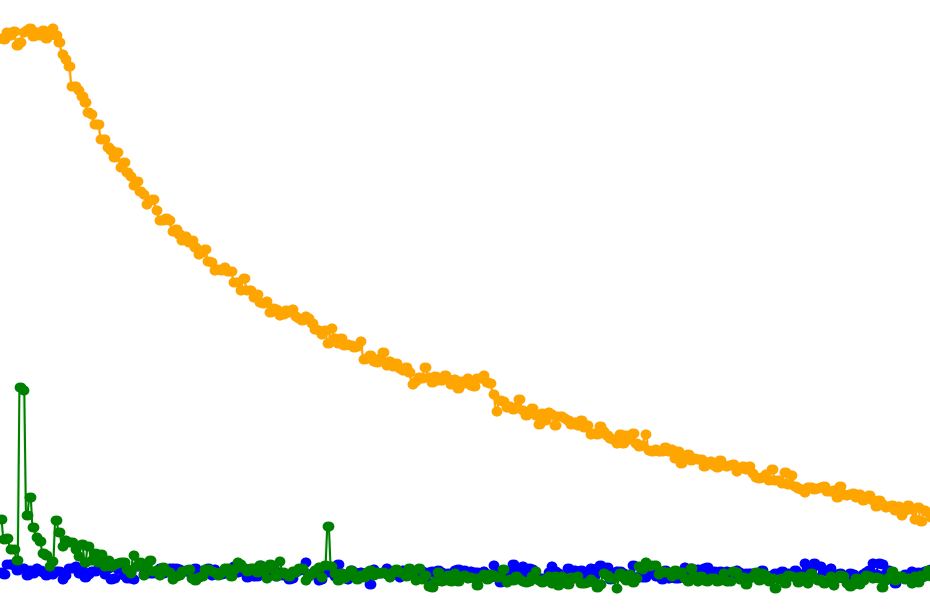CO2 Problem: (116, 0, 930, 616), (38, 0, 116, 616), (0, 0, 38, 616)
Condensation (CO2): (116, 0, 349, 616), (38, 0, 116, 616)
Low CO2: (116, 0, 349, 616), (38, 0, 116, 616)
Normal: (38, 0, 930, 616), (116, 0, 930, 616), (38, 0, 505, 616), (38, 0, 349, 616), (38, 0, 116, 616), (0, 0, 38, 616)
O2 Problem: (116, 0, 930, 616)
